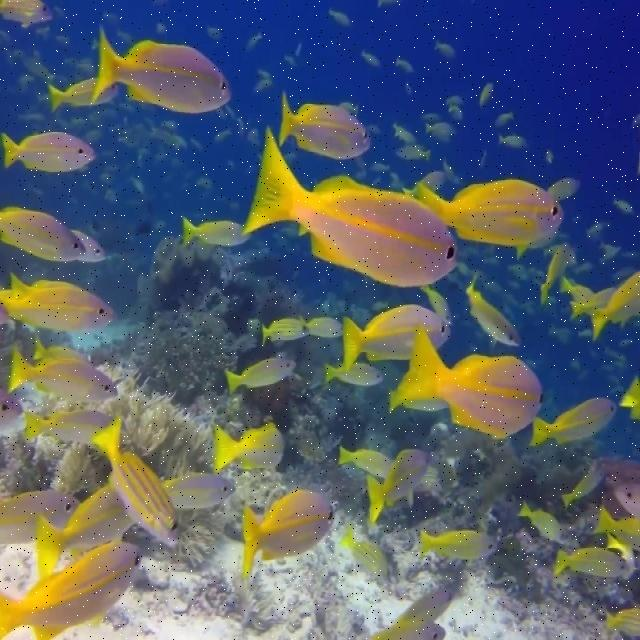fish: (243, 127, 460, 287), (394, 324, 544, 438), (0, 542, 142, 639), (91, 25, 232, 113), (417, 178, 564, 260), (90, 416, 178, 546), (36, 478, 134, 580), (242, 489, 334, 577), (7, 342, 119, 403), (342, 305, 450, 368), (0, 272, 115, 331), (279, 91, 370, 159), (367, 449, 431, 526), (0, 205, 86, 260), (0, 491, 81, 543), (529, 398, 616, 446), (0, 130, 95, 173), (466, 274, 520, 345), (212, 420, 284, 471), (24, 410, 114, 443), (162, 473, 235, 509), (225, 357, 296, 394), (554, 548, 629, 579), (49, 79, 118, 112), (420, 529, 497, 558), (183, 216, 252, 248), (515, 501, 564, 542), (338, 448, 392, 478), (324, 362, 384, 386), (0, 1, 52, 28), (263, 318, 309, 344), (301, 316, 343, 337)
